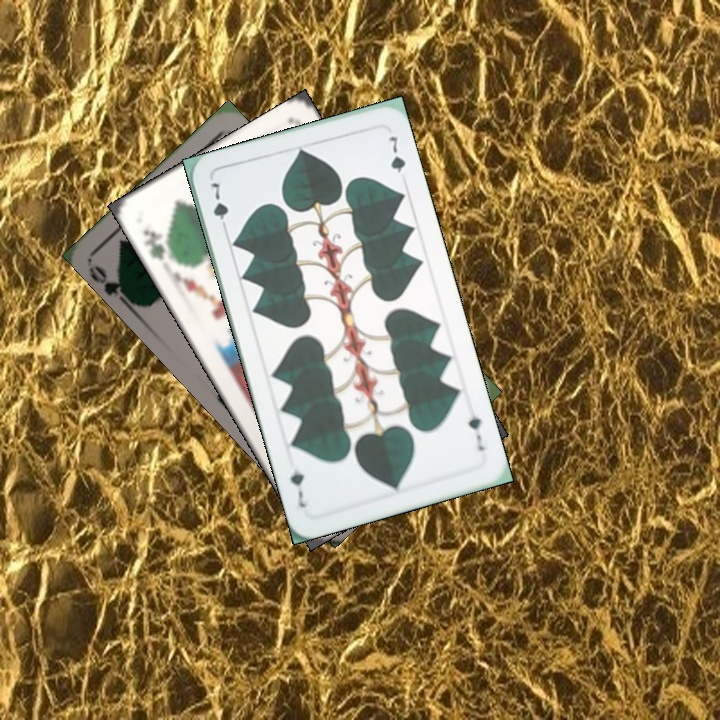G7: (206, 178, 232, 234), (464, 411, 488, 453)
GK: (138, 225, 167, 263)
GO: (85, 261, 134, 309)
